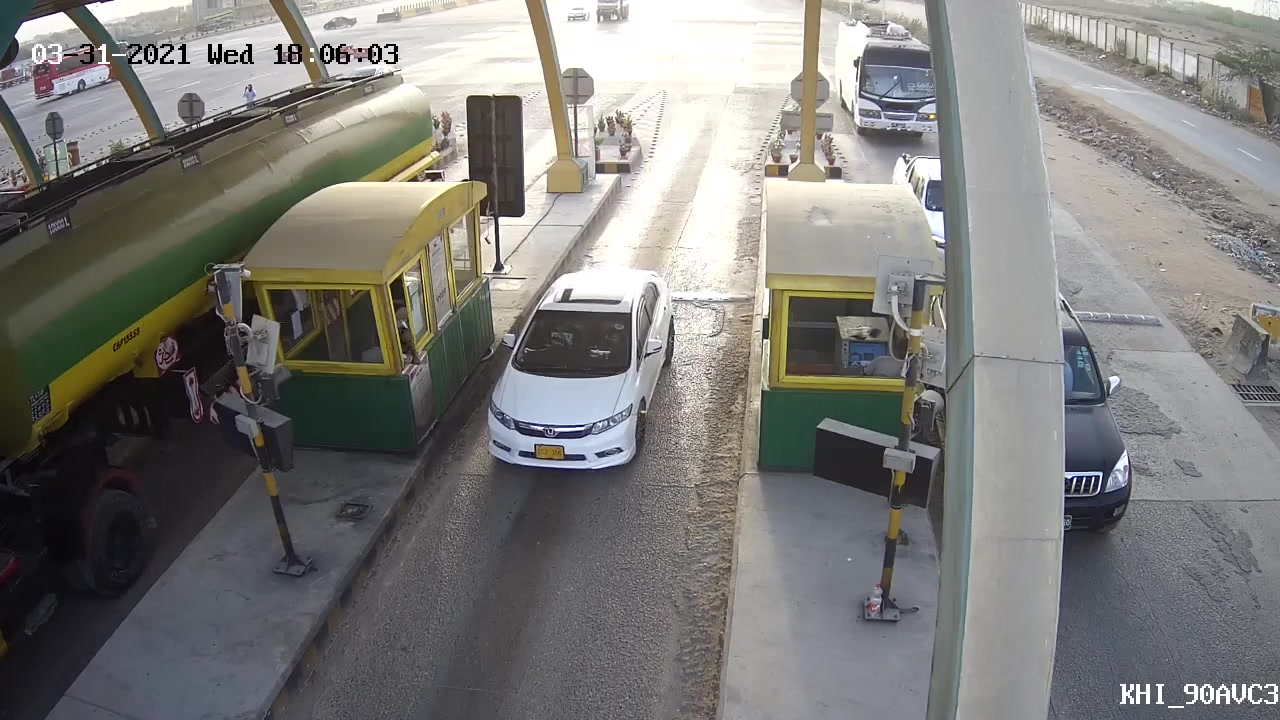F1: (481, 266, 684, 478)
